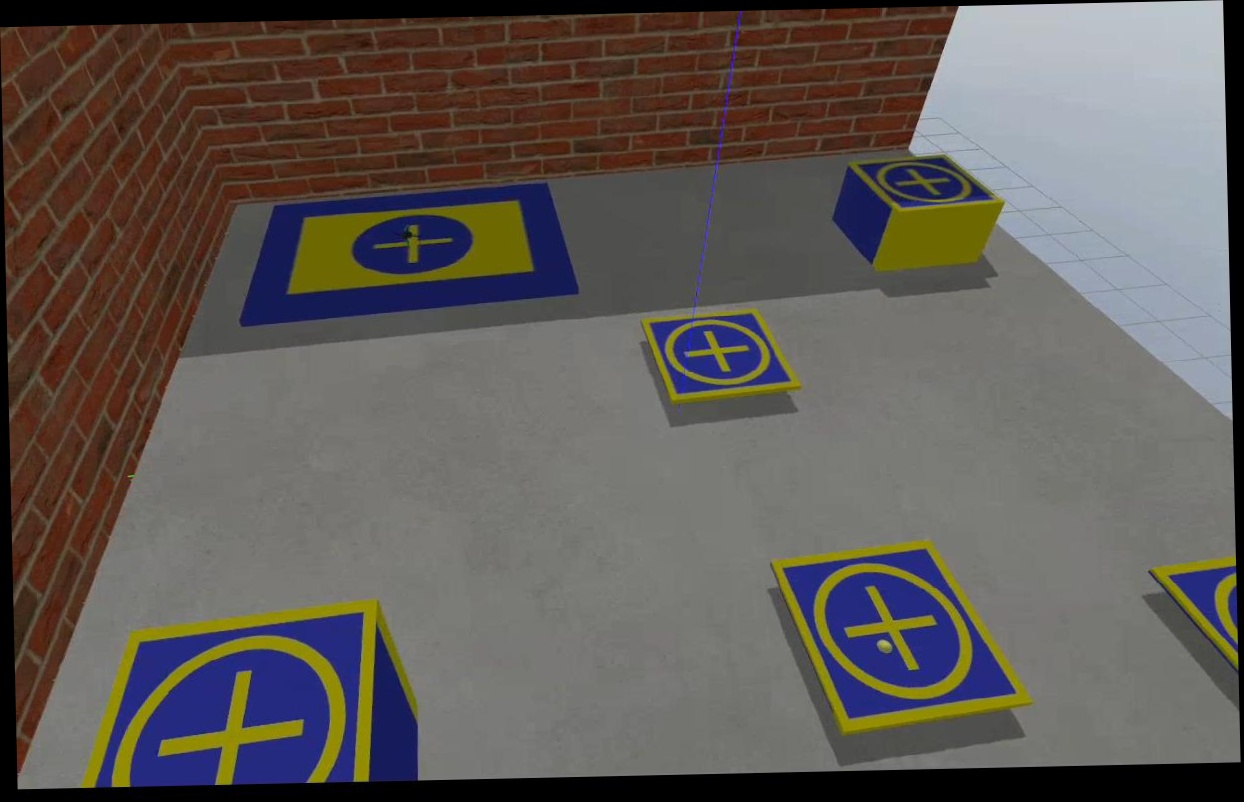large_base: (236, 180, 581, 331)
small_base: (73, 594, 389, 790), (770, 533, 1036, 740), (639, 306, 804, 410), (1149, 551, 1242, 676), (849, 153, 1005, 219)
